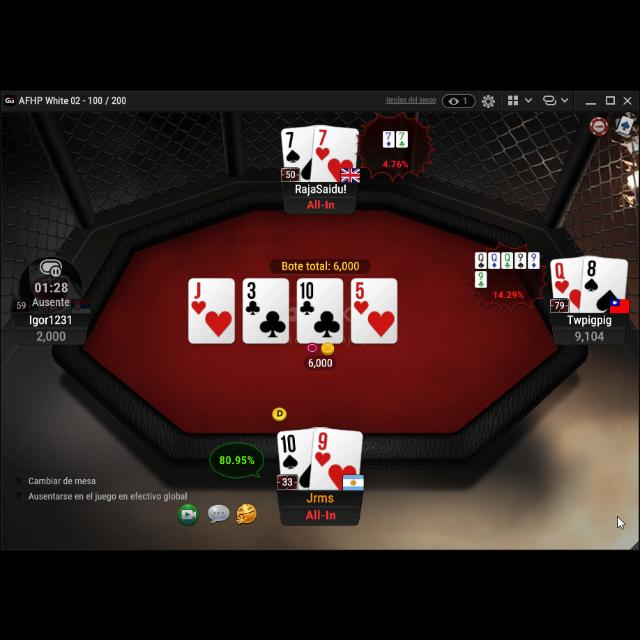3c: (244, 278, 262, 316)
5h: (354, 278, 371, 314)
7h: (314, 124, 331, 160)
7s: (284, 128, 302, 162)
8s: (582, 255, 602, 293)
9h: (314, 428, 332, 468)
Jh: (190, 278, 208, 314)
Qh: (554, 262, 570, 294)
Tc: (298, 278, 316, 316)
Ts: (280, 430, 300, 470)
all_in_symbol: (304, 506, 338, 522), (306, 196, 336, 210)
bet_text: (306, 354, 334, 368)
dealer: (271, 402, 289, 422)
pot_text: (282, 258, 361, 270)
stack_text: (574, 327, 606, 341), (35, 328, 67, 342)
